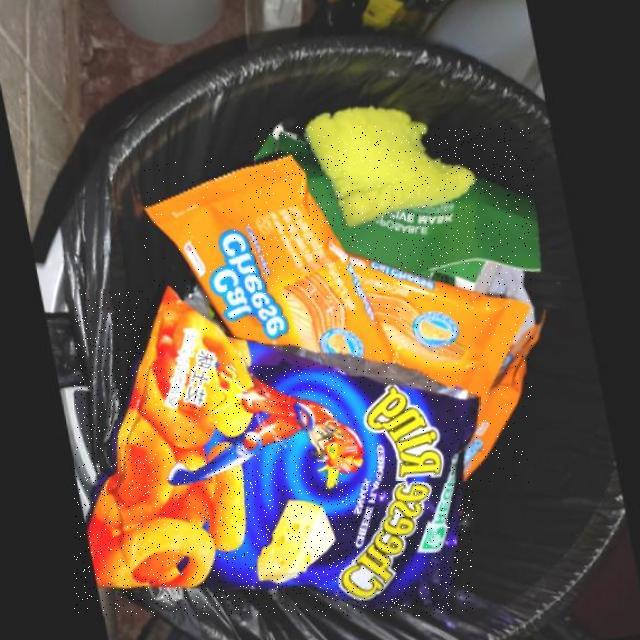paper: (250, 126, 534, 298)
wrapper: (75, 290, 473, 616), (141, 158, 388, 366), (342, 258, 533, 483)
